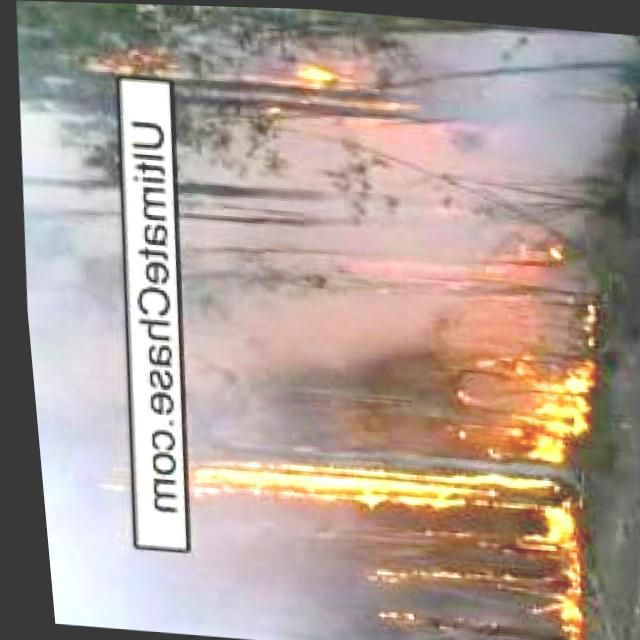Fire: (486, 356, 601, 640), (187, 471, 497, 518), (92, 43, 181, 89), (362, 556, 466, 587), (505, 226, 567, 268), (277, 51, 337, 89), (363, 601, 405, 627)
Smoke: (140, 3, 528, 640), (7, 100, 152, 631)
